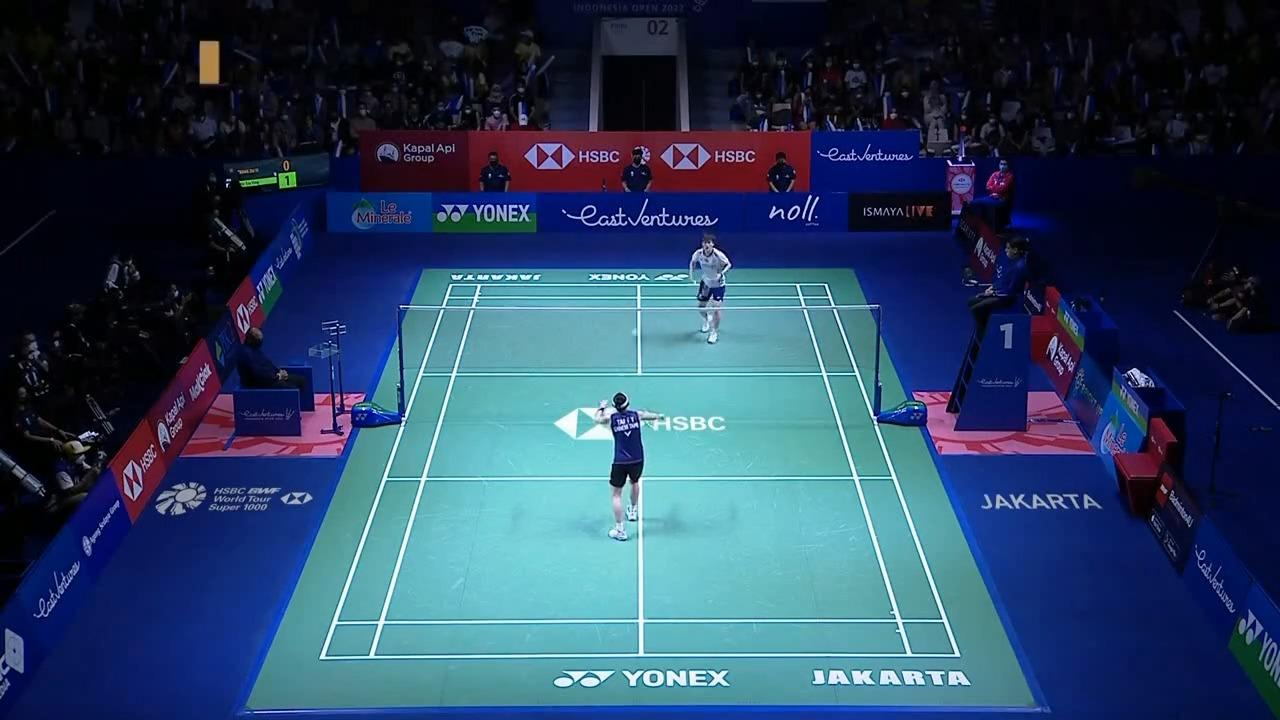shuttle: (632, 328, 640, 337)
